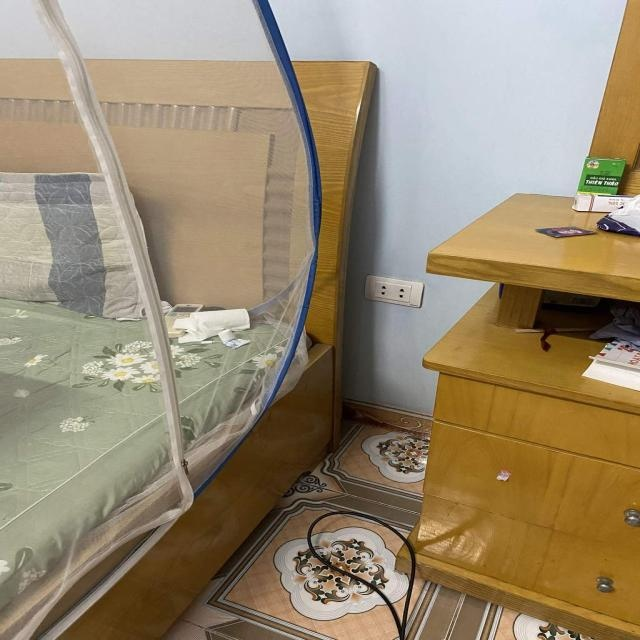outlet: (364, 274, 424, 308)
